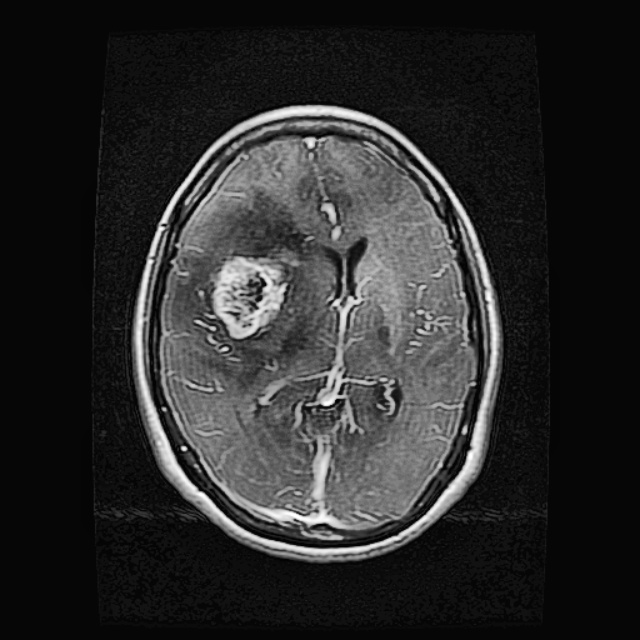Glioma: (212, 242, 300, 342)
